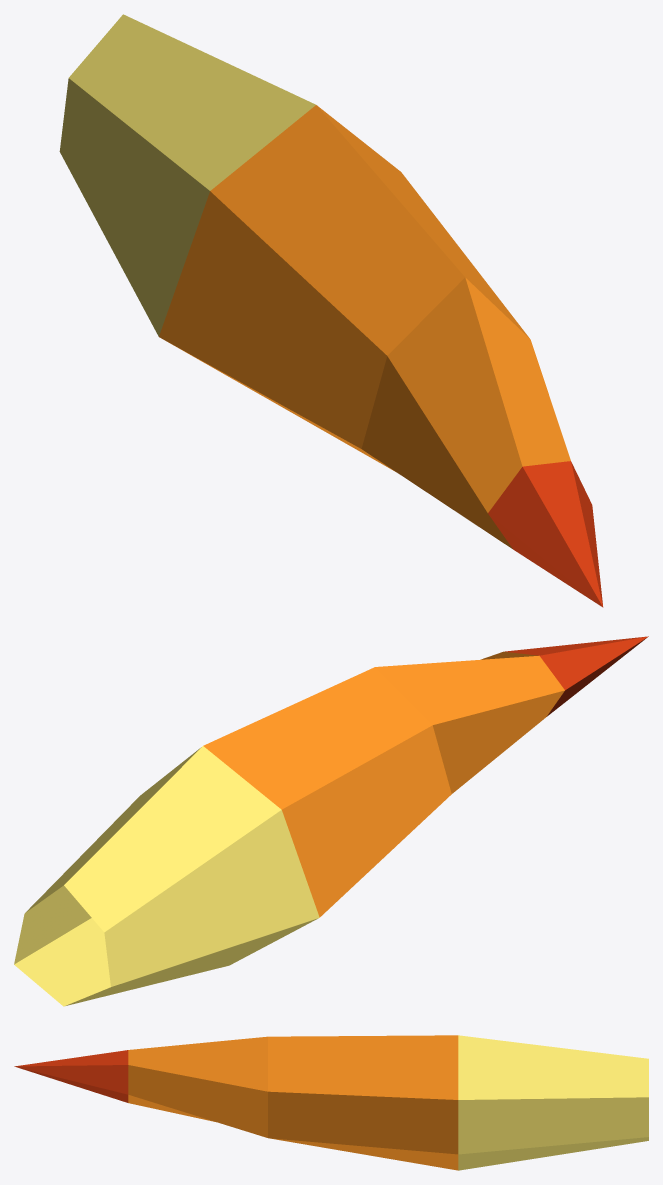
3 views of the same model, one above another, from view 1: azimuth 30°, elevation 25°; view 2: azimuth 150°, elevation 25°; view 3: azimuth 270°, elevation 25° (orthographic). The views are drawn at different scales.
Parts seen in each view (by area): view 1: t00_g20_p2; view 2: t00_g20_p2; view 3: t00_g20_p2.
Part boxes in pixels (box(x1,y1,x2,y2)): t00_g20_p2: box(59, 14, 603, 607); t00_g20_p2: box(14, 636, 648, 1006); t00_g20_p2: box(14, 1035, 648, 1170).
Bounding box in the file's own units: 2.29 × 2.59 × 10.35.
